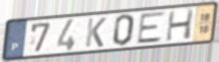0: (111, 13, 136, 48)
4: (55, 17, 77, 53)
7: (30, 21, 52, 54)
E: (135, 10, 168, 46)
H: (164, 8, 196, 43)
K: (84, 16, 108, 49)
